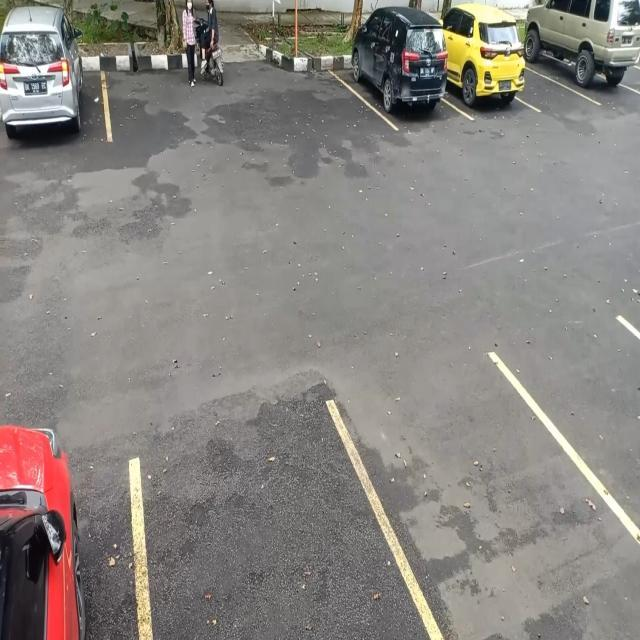occupied: (0, 20, 109, 151), (352, 28, 452, 132), (527, 0, 640, 89), (449, 16, 528, 125)
